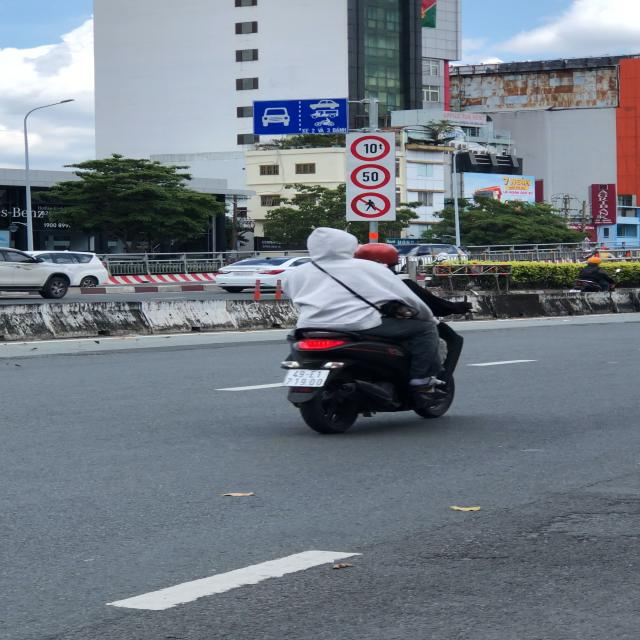Bien bao cam nguoi di bo: (347, 191, 398, 220)
Bien bao toc do toi da cho phep: (350, 162, 391, 190)
